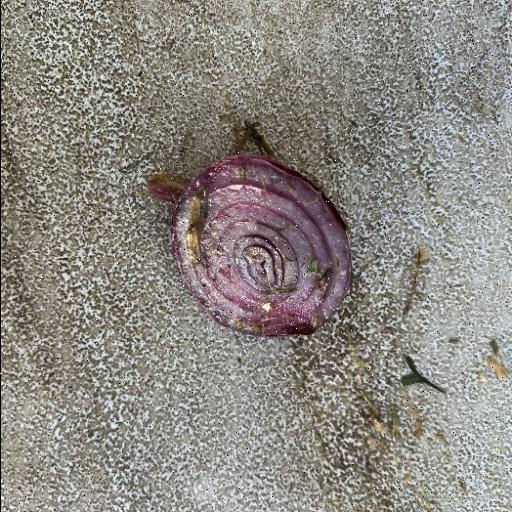Waste: (144, 123, 354, 339)
